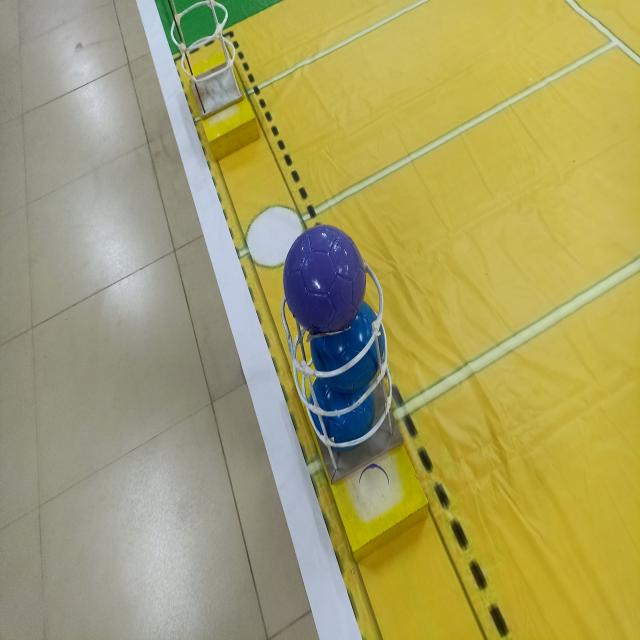blue_ball: (308, 310, 383, 387), (308, 380, 381, 436)
purple_ball: (278, 223, 371, 339)
silo: (265, 237, 434, 520), (158, 0, 262, 148)
